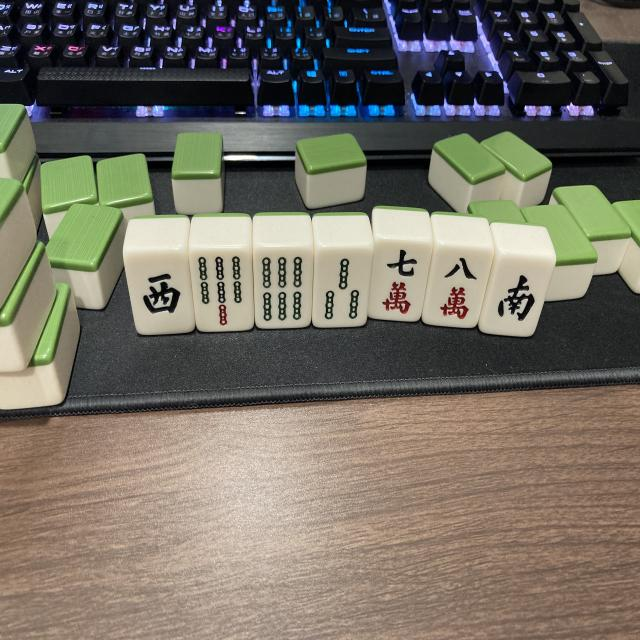m7: (367, 243, 430, 321)
m8: (421, 248, 491, 330)
s3: (314, 250, 372, 326)
s6: (255, 251, 314, 328)
s7: (193, 252, 252, 330)
south: (480, 254, 552, 338)
west: (128, 255, 194, 335)
